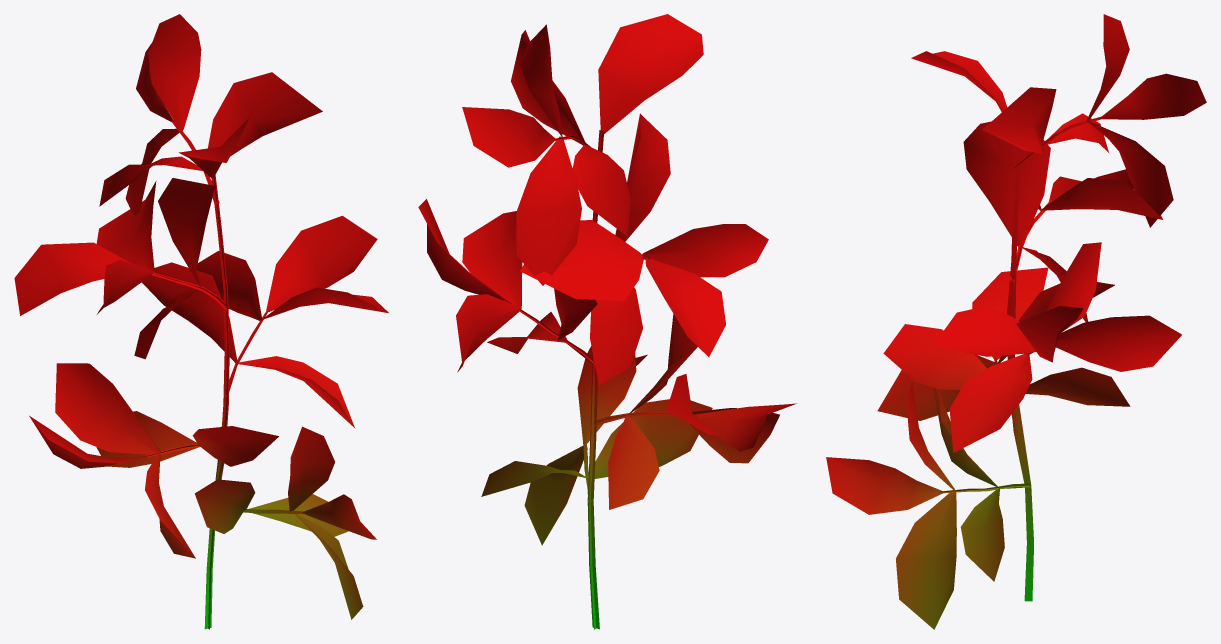
The model's file is European Spindle_LOD2_Var4.fbx.
The picture shows the model from 3 angles, left to right: view 1: azimuth 30°, elevation 25°; view 2: azimuth 150°, elevation 25°; view 3: azimuth 270°, elevation 25°; orthographic projection. The views are drawn at different scales.
Visible parts, largest first — view 1: _30do_Var4_LOD2; view 2: _30do_Var4_LOD2; view 3: _30do_Var4_LOD2.
Part boxes in pixels (x1=…): _30do_Var4_LOD2: x1=14, y1=14, x2=388, y2=629; _30do_Var4_LOD2: x1=418, y1=14, x2=796, y2=629; _30do_Var4_LOD2: x1=826, y1=14, x2=1206, y2=629.
Size of the model in its own units: 26.48 by 43.98 by 25.65.
